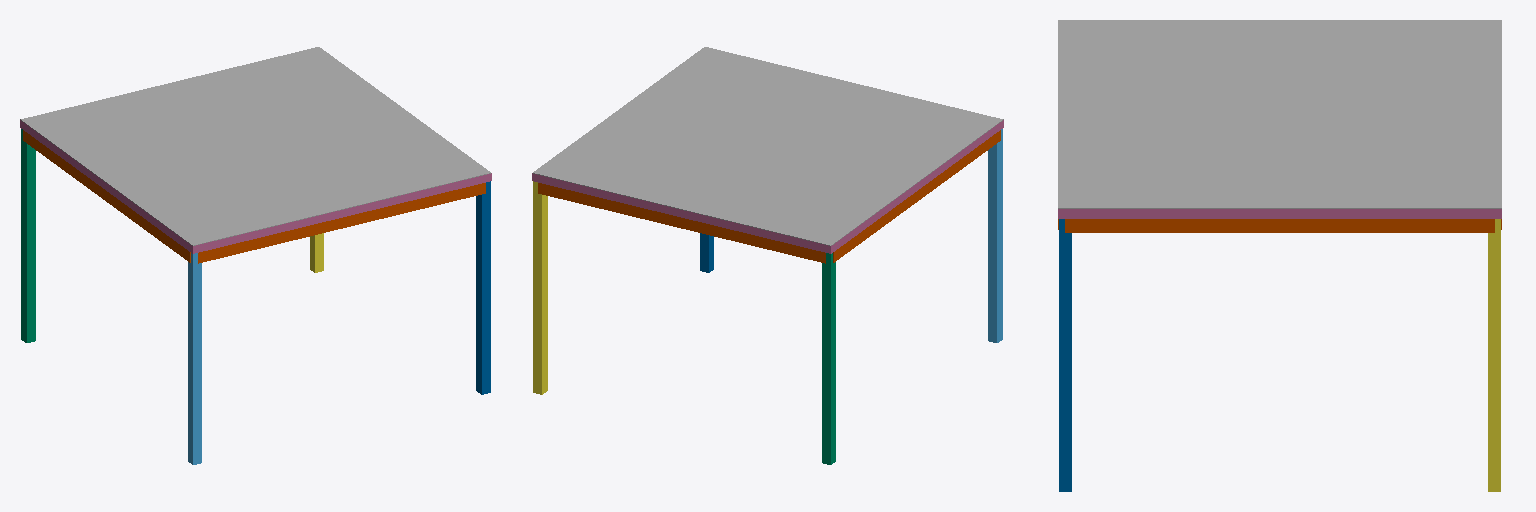
The robot description file, URDF, robot "work_table":
<?xml version="1.0" ?>

<robot name="work_table">
    <!-- Rigidly fixing the table to the world -->
    <link name="world"/>
    <joint name="base" type="fixed">
        <parent link="world"/>
        <child link="leg1"/>
    </joint>

    <link name="leg1">
        <visual>
            <origin xyz="-0.483 -0.483 0.3575"/>
            <geometry>
                <box size="0.03 0.03 0.69"/>
            </geometry>
        </visual>

        <collision>
            <origin xyz="-0.483 -0.483 0.3575"/>
            <geometry>
                <box size="0.03 0.03 0.69"/>
            </geometry>
        </collision>
    </link>

    <link name="leg2">
        <visual>
            <origin xyz="-0.483 0.483 0.3575"/>
            <geometry>
                <box size="0.03 0.03 0.69"/>
            </geometry>
        </visual>

        <collision>
            <origin xyz="-0.483 0.483 0.3575"/>
            <geometry>
                <box size="0.03 0.03 0.69"/>
            </geometry>
        </collision>
    </link>

    <link name="leg3">
        <visual>
            <origin xyz="0.483 0.483 0.3575"/>
            <geometry>
                <box size="0.03 0.03 0.69"/>
            </geometry>
        </visual>

        <collision>
            <origin xyz="0.483 0.483 0.3575"/>
            <geometry>
                <box size="0.03 0.03 0.69"/>
            </geometry>
        </collision>
    </link>

    <link name="leg4">
        <visual>
            <origin xyz="0.483 -0.483 0.3575"/>
            <geometry>
                <box size="0.03 0.03 0.69"/>
            </geometry>
        </visual>

        <collision>
            <origin xyz="0.483 -0.483 0.3575"/>
            <geometry>
                <box size="0.03 0.03 0.69"/>
            </geometry>
        </collision>
    </link>

    <joint name="f1" type="fixed">
        <parent link="leg1"/>
        <child link="pedestal"/>
    </joint>

    <joint name="f2" type="fixed">
        <parent link="pedestal"/>
        <child link="leg2"/>
    </joint>

    <joint name="f3" type="fixed">
        <parent link="pedestal"/>
        <child link="leg3"/>
    </joint>

    <joint name="f4" type="fixed">
        <parent link="pedestal"/>
        <child link="leg4"/>
    </joint>

    <link name="pedestal">
        <visual name="top1">
            <origin xyz="0 0.4825 0.6725"/>
            <geometry>
                <box size="0.966 0.035 0.035"/>
            </geometry>
        </visual>
        <visual name="top2">
            <origin xyz="0.4825 0 0.6725"/>
            <geometry>
                <box size="0.035 0.966 0.035"/>
            </geometry>
        </visual>
        <visual name="top3">
            <origin xyz="0 -0.4825 0.6725"/>
            <geometry>
                <box size="0.966 0.035 0.035"/>
            </geometry>
        </visual>
        <visual name="top4">
            <origin xyz="-0.4825 0 0.6725"/>
            <geometry>
                <box size="0.035 0.966 0.035"/>
            </geometry>
        </visual>

        <collision>
            <origin xyz="0 0 0.6725"/>
            <geometry>
                <box size="1.0 1.0 0.035"/>
            </geometry>
        </collision>

        <inertial>
            <origin xyz="0.5 0.5 0.345"/>
            <mass value="0.5"/>
            <inertia ixx="0.5" ixy="0.0" ixz="0.0"
                     iyy="0.5" iyz="0.0"
                     izz="0.5"/>
        </inertial>
    </link>

    <joint name="screws" type="fixed">
        <parent link="pedestal"/>
        <child link="surface"/>
    </joint>

    <link name="surface">
        <visual>
            <origin xyz="0 0 0.7025"/>
            <geometry>
                <box size="1.0 1.0 0.025"/>
            </geometry>
        </visual>

        <collision>
            <origin xyz="0 0 0.7025"/>
            <geometry>
                <box size="1.0 1.0 0.025"/>
            </geometry>
        </collision>
    </link>

    <joint name="lyingontop" type="fixed">
        <parent link="surface"/>
        <child link="linen"/>
    </joint>

    <link name="linen">
        <visual>
            <origin xyz="0 0 0.716"/>
            <geometry>
                <box size="1.0 1.0 0.002"/>
            </geometry>
        </visual>

        <collision>
            <origin xyz="0 0 0.716"/>
            <geometry>
                <box size="1.0 1.0 0.002"/>
            </geometry>
        </collision>
    </link>


    <gazebo reference="leg1">
        <material>Gazebo/Black</material>
    </gazebo>

    <gazebo reference="leg2">
        <material>Gazebo/Black</material>
    </gazebo>

    <gazebo reference="leg3">
        <material>Gazebo/Black</material>
    </gazebo>

    <gazebo reference="leg4">
        <material>Gazebo/Black</material>
    </gazebo>

    <gazebo reference="pedestal">
        <material>Gazebo/Black</material>
    </gazebo>

    <gazebo reference="surface">
        <material>Gazebo/White</material>
    </gazebo>

    <gazebo reference="linen">
        <material>Gazebo/Black</material>
    </gazebo>
</robot>

--- Facts derived from the render (not from the file) ---
The picture shows the robot from 3 angles, left to right: view 1: azimuth 30°, elevation 25°; view 2: azimuth 150°, elevation 25°; view 3: azimuth 270°, elevation 25°; orthographic projection.
Model work_table with 8 links and 7 joints (7 fixed), rooted at world, posed every joint at zero.
Visible links, largest first — view 1: linen, pedestal, surface, leg4, leg2, leg1; view 2: linen, pedestal, surface, leg3, leg1, leg2; view 3: linen, pedestal, surface, leg3, leg4.
Link boxes in pixels (left/top/right/bottom): linen: left=20, top=47, right=490, bottom=245; pedestal: left=23, top=130, right=485, bottom=263; surface: left=20, top=120, right=491, bottom=253; leg4: left=476, top=181, right=490, bottom=394; leg2: left=21, top=129, right=35, bottom=342; leg1: left=188, top=253, right=201, bottom=464; linen: left=533, top=47, right=1003, bottom=245; pedestal: left=538, top=130, right=1000, bottom=263; surface: left=532, top=120, right=1003, bottom=253; leg3: left=533, top=181, right=547, bottom=394; leg1: left=988, top=129, right=1002, bottom=342; leg2: left=822, top=253, right=835, bottom=464; linen: left=1058, top=20, right=1501, bottom=208; pedestal: left=1058, top=219, right=1501, bottom=232; surface: left=1058, top=209, right=1501, bottom=218; leg3: left=1488, top=219, right=1500, bottom=491; leg4: left=1059, top=219, right=1071, bottom=491.
Size in the robot's own frame: 1 by 1 by 0.7045 metres.
Geometry: primitives only (box / cylinder / sphere), no mesh files.